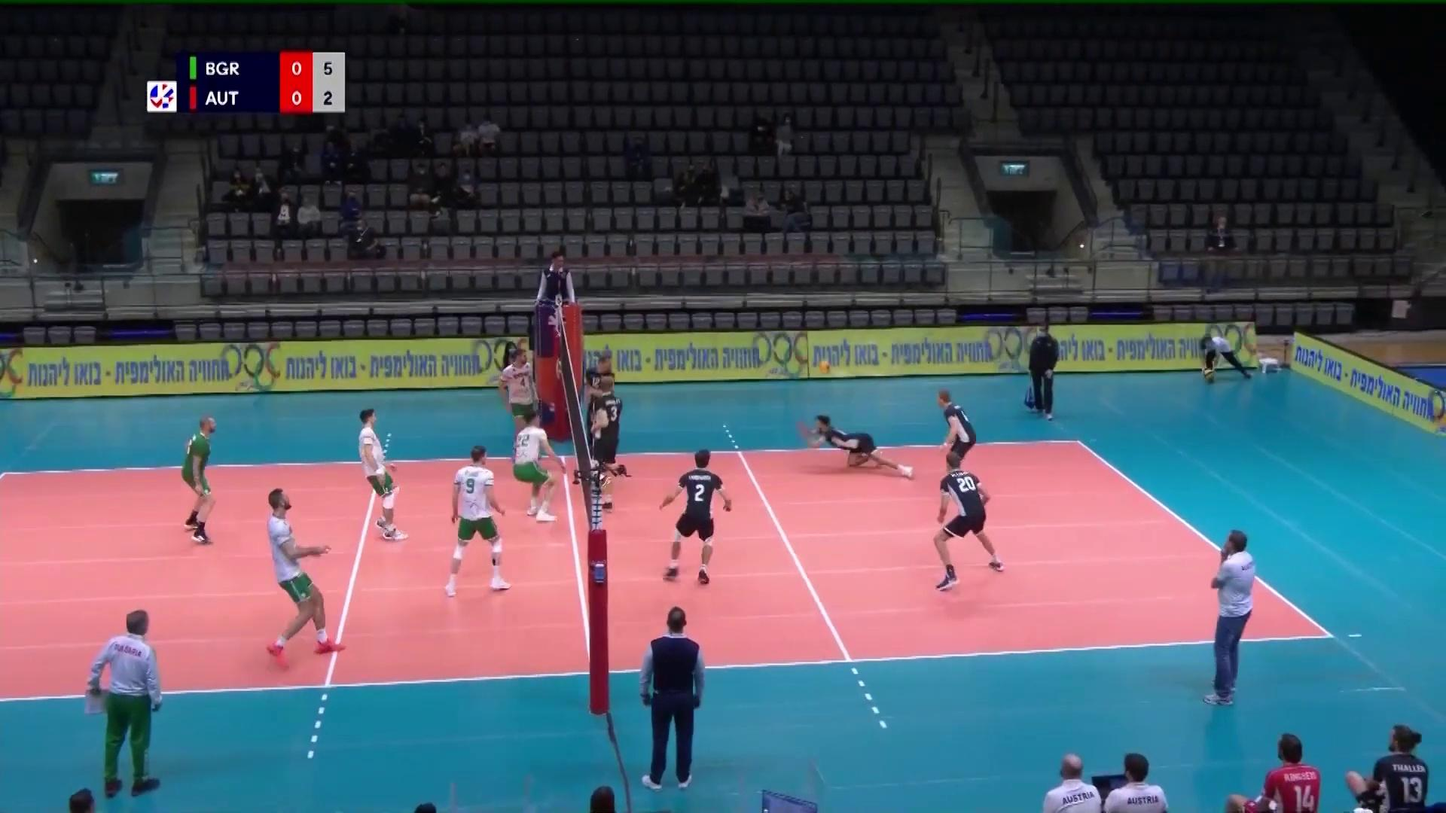ball: (819, 362, 831, 375)
